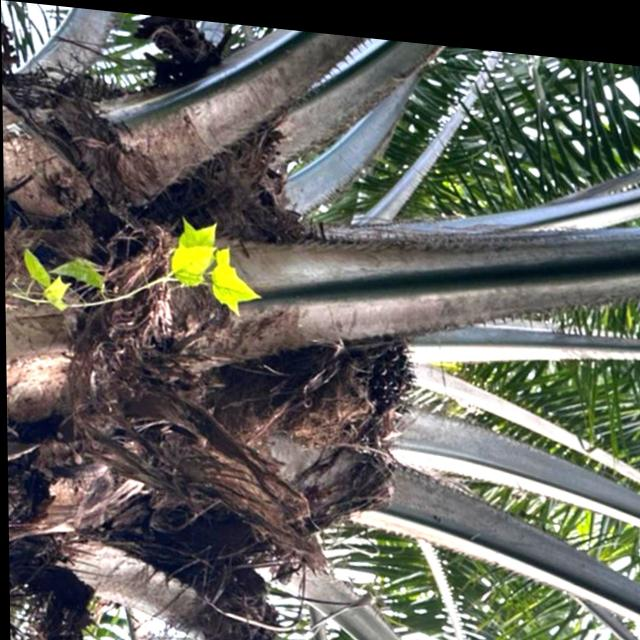unripe: (262, 292, 420, 457)
